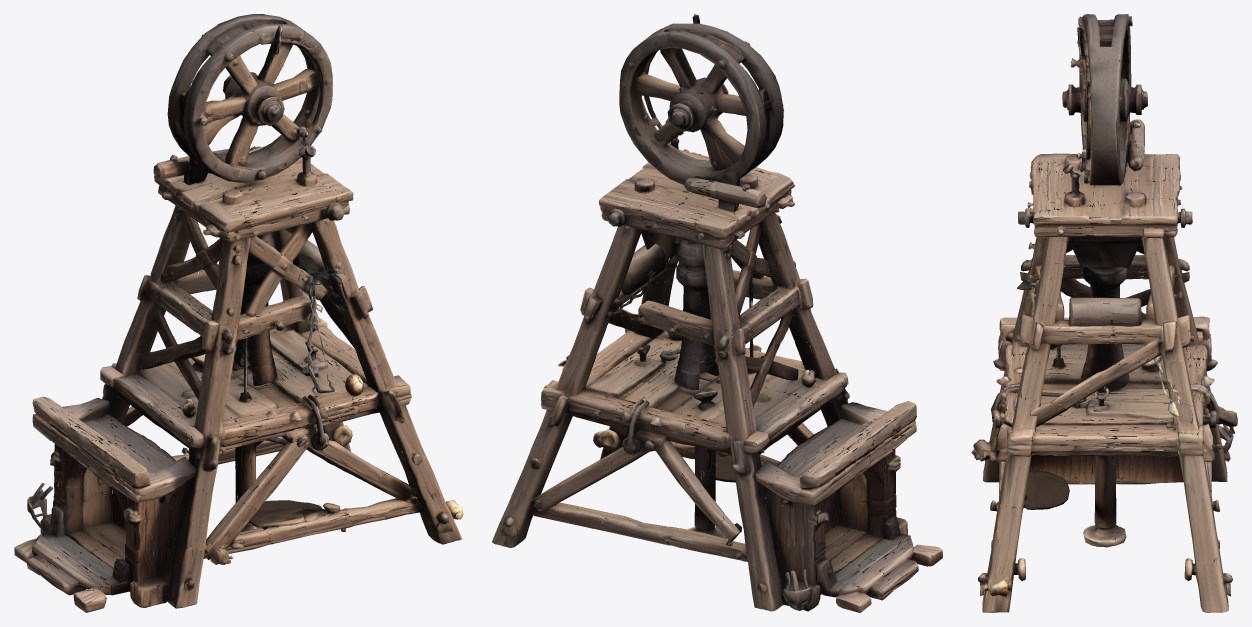
File: landmark_headframe.glb
3 renders of one model, left to right at view 1: azimuth 30°, elevation 25°; view 2: azimuth 150°, elevation 25°; view 3: azimuth 270°, elevation 25°, orthographic. The views are drawn at different scales.
Visible parts, largest first — view 1: tripo_node_534dafa5-4d3f-4a68-8cfb-f0731c5babb2; view 2: tripo_node_534dafa5-4d3f-4a68-8cfb-f0731c5babb2; view 3: tripo_node_534dafa5-4d3f-4a68-8cfb-f0731c5babb2.
Part boxes in pixels (x1=…): tripo_node_534dafa5-4d3f-4a68-8cfb-f0731c5babb2: x1=14, y1=14, x2=463, y2=612; tripo_node_534dafa5-4d3f-4a68-8cfb-f0731c5babb2: x1=492, y1=14, x2=942, y2=612; tripo_node_534dafa5-4d3f-4a68-8cfb-f0731c5babb2: x1=971, y1=14, x2=1237, y2=612.
Size of the model in its own units: 0.72 by 0.9777 by 0.4528.
Materials: 1 (1 with a texture image).
